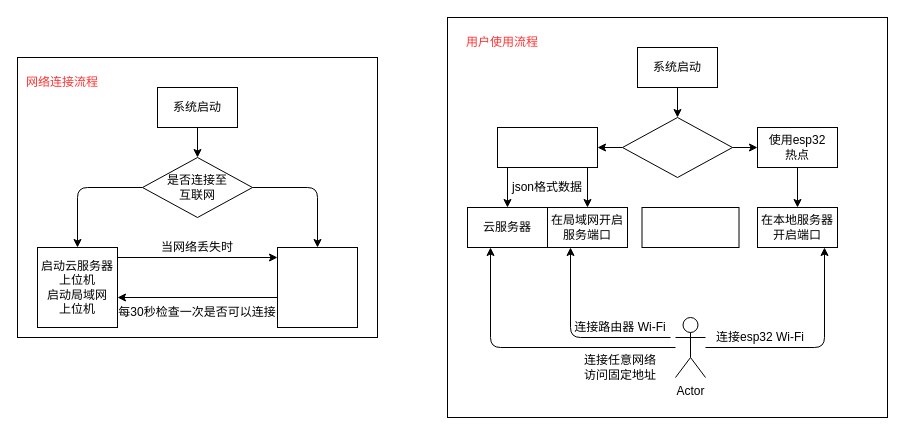
Image size: 905x435. Some labels were removed from this diagram. The box of each missing label's shape, as (x1, y1, x2, y2) in pixels:
启动本地热点 启动本地热点网页: (276, 246, 358, 328)
统一页面: (641, 206, 739, 248)
网络连接状态: (622, 116, 732, 178)
连接路由器 互联网: (496, 126, 598, 168)
